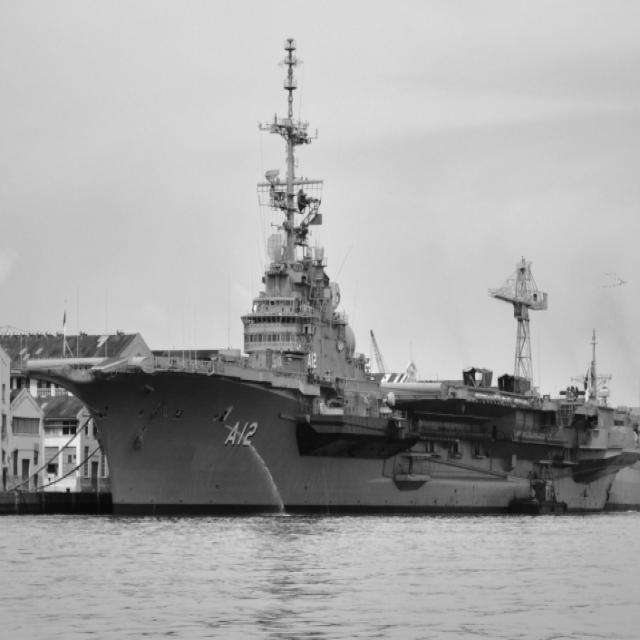Portanaves: (5, 25, 640, 521)
